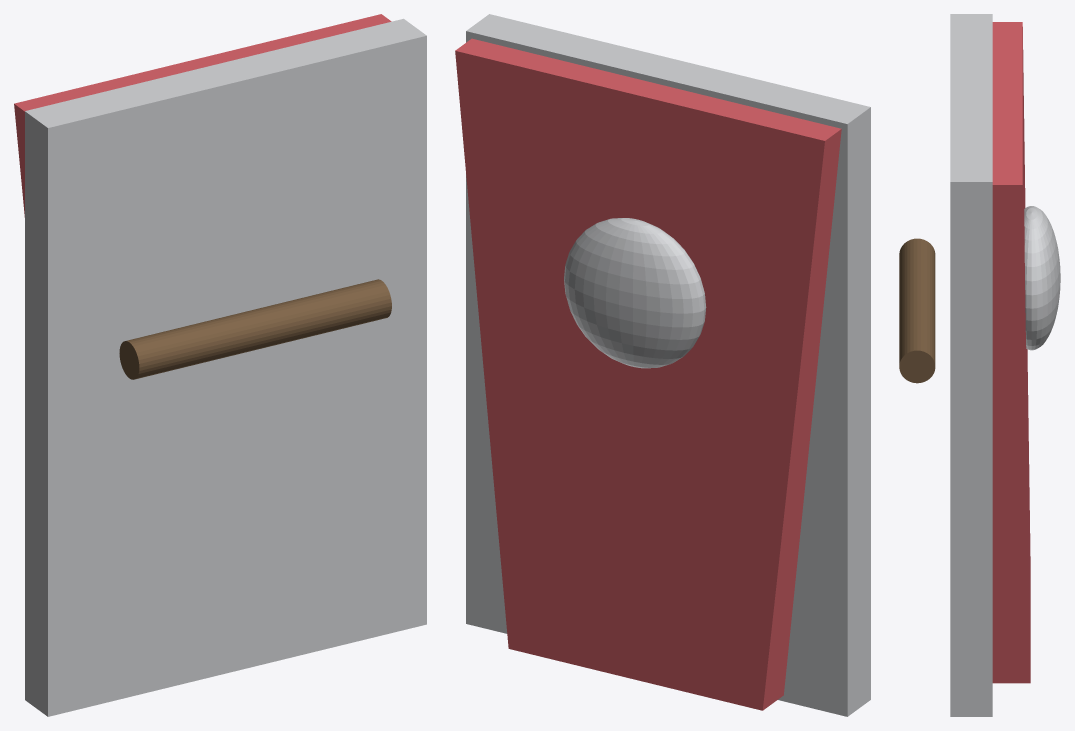
The model's file is kite_shield.glb.
3 renders of one model, left to right at view 1: azimuth 30°, elevation 25°; view 2: azimuth 150°, elevation 25°; view 3: azimuth 270°, elevation 25°, orthographic. The views are drawn at different scales.
Visible parts, largest first — view 1: KiteShield_Rim, KiteShield; view 2: KiteShield, KiteShield_Rim; view 3: KiteShield, KiteShield_Rim.
Boxes of the visible parts, x1,y1,x2,y2 form: KiteShield_Rim: [25, 18, 426, 716]; KiteShield: [14, 14, 391, 379]; KiteShield: [455, 38, 841, 710]; KiteShield_Rim: [466, 14, 870, 716]; KiteShield: [899, 22, 1060, 683]; KiteShield_Rim: [950, 14, 992, 716].
Size of the model in its own units: 0.33 by 0.49 by 0.134.
